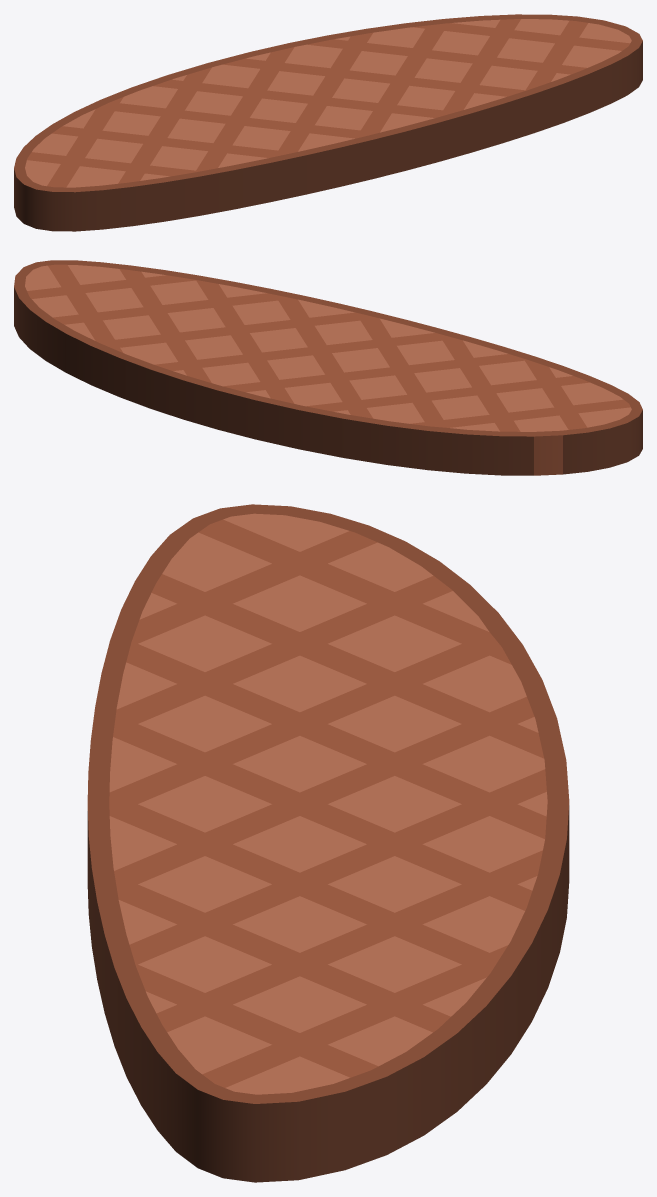
File: Bread L.fbx
The picture shows the model from 3 angles, top to bottom: view 1: azimuth 30°, elevation 25°; view 2: azimuth 150°, elevation 25°; view 3: azimuth 270°, elevation 25°; orthographic projection. The views are drawn at different scales.
Visible parts, largest first — view 1: Bread L; view 2: Bread L; view 3: Bread L.
Boxes of the visible parts, x1,y1,x2,y2 form: Bread L: (14,14,642,231); Bread L: (14,260,642,475); Bread L: (87,504,569,1182).
Size of the model in its own units: 1.29 by 0.0789 by 0.4388.
